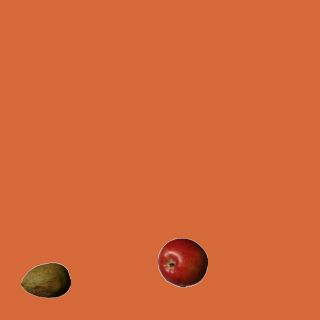Apple Braeburn: (157, 237, 207, 287)
Papaya: (20, 255, 70, 305)
